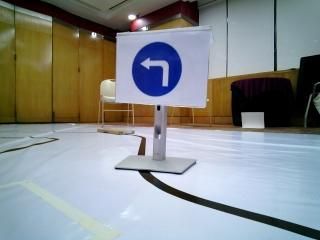left: (119, 36, 202, 104)
